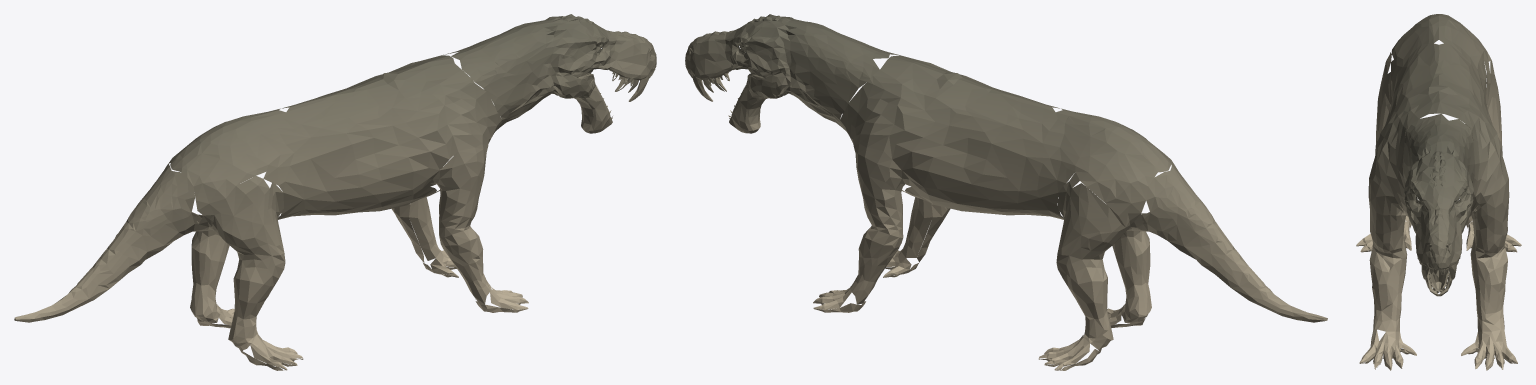
Rendered from gorgonops.glb.
3 views of the same model, side by side, from view 1: azimuth 30°, elevation 25°; view 2: azimuth 150°, elevation 25°; view 3: azimuth 270°, elevation 25° (orthographic).
Visible parts, largest first — view 1: world; view 2: world; view 3: world.
Part boxes in pixels (bbox=[...]): world: bbox=[14, 14, 656, 370]; world: bbox=[685, 14, 1327, 370]; world: bbox=[1356, 14, 1521, 370].
Bounding box in the file's own units: 12 × 4.45 × 2.68.
